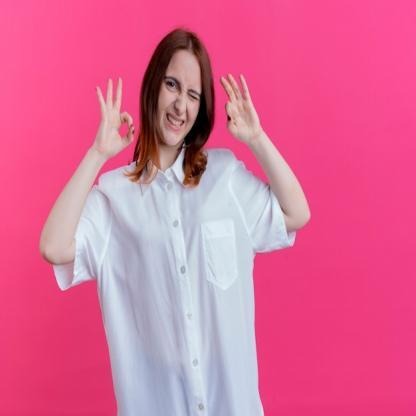ok: (94, 75, 137, 157), (218, 70, 260, 144)
